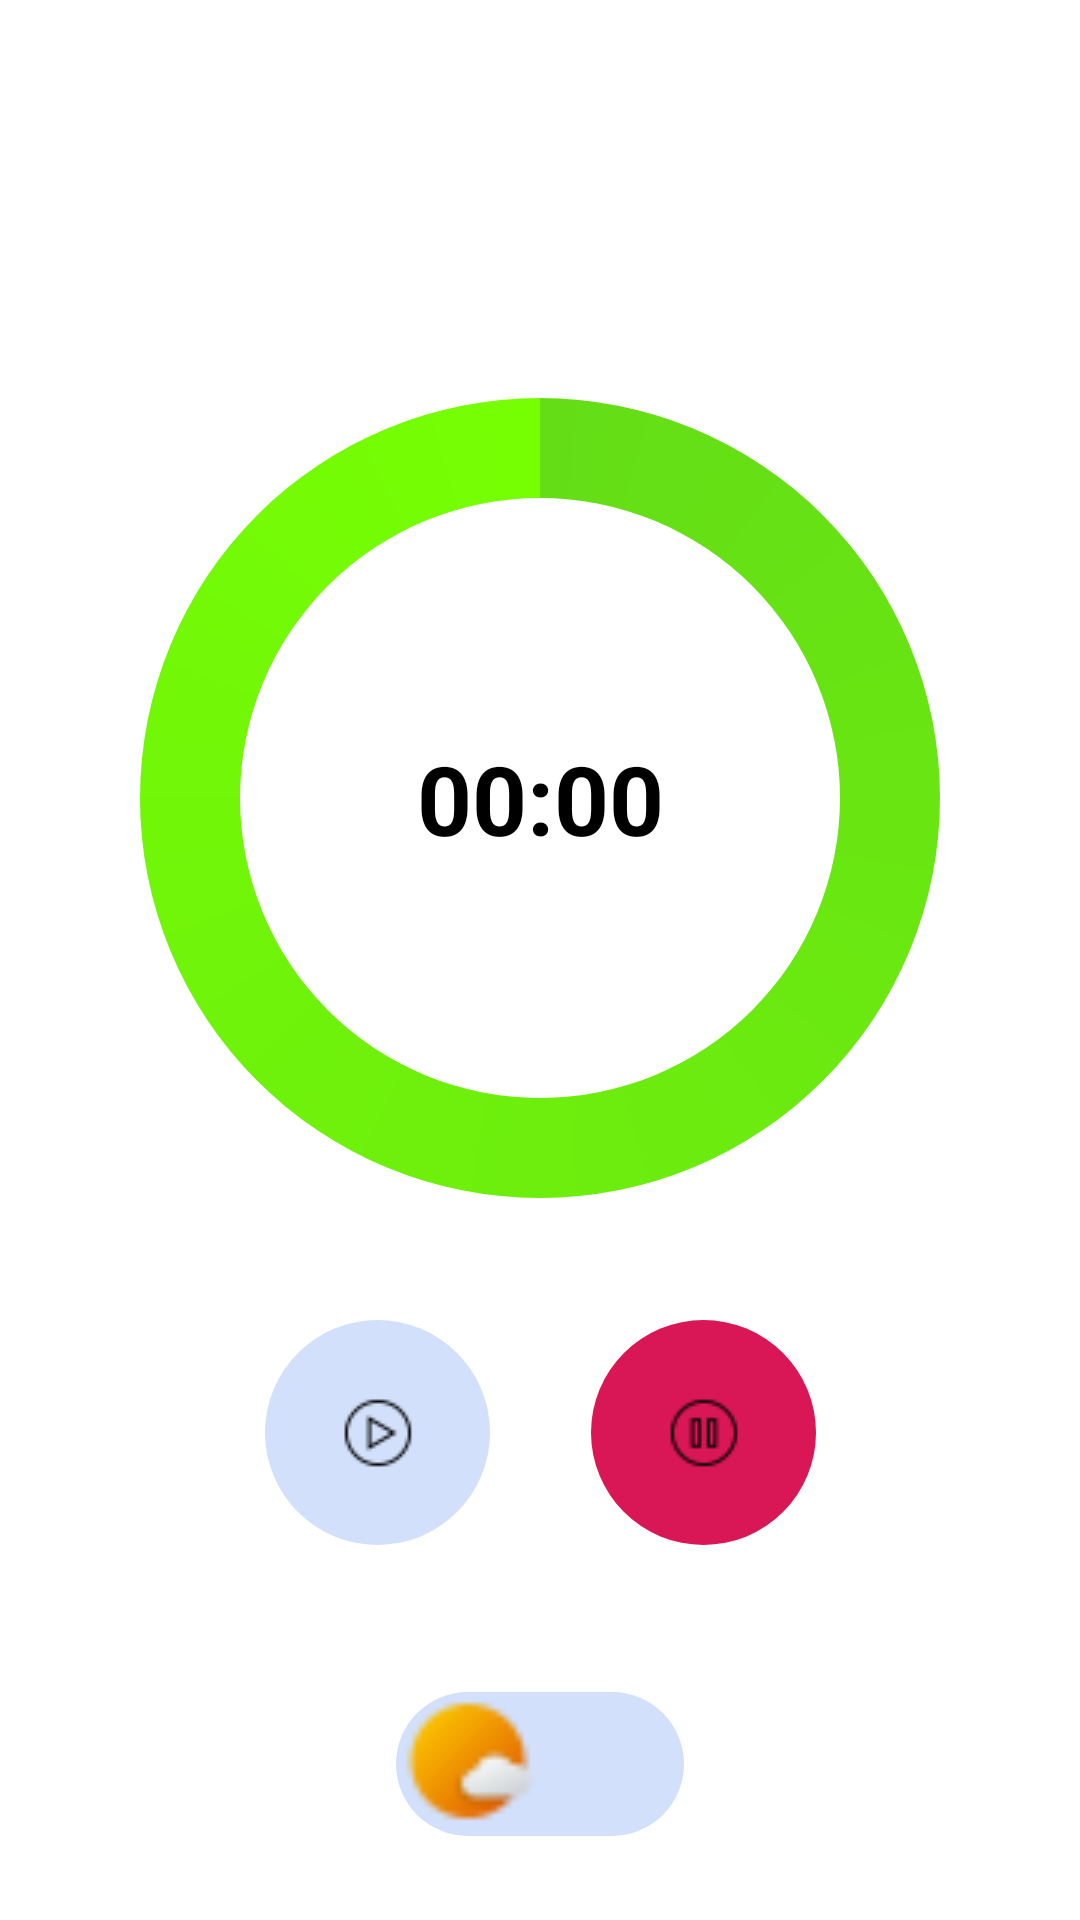

Locate icon controls on the screen. Image size 1080w x 1920h, boxes as [x1,y1,x2,y2].
iconspause: [591,1320,816,1545]
iconsplay: [265,1320,490,1545]
